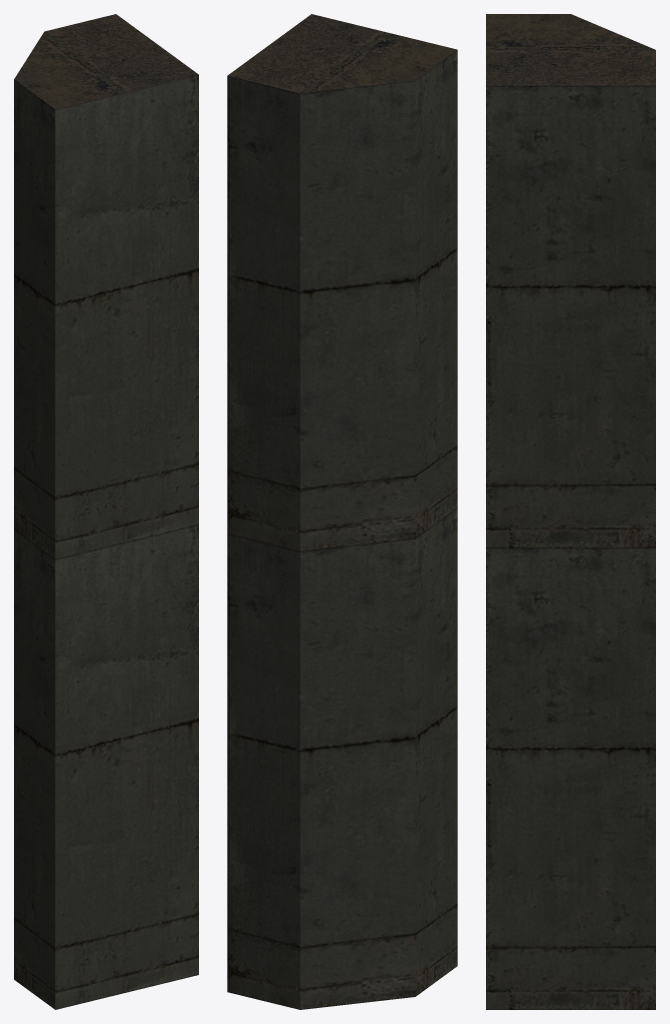
Rendered from pillar_rg_6.dae.
3 views of the same model, side by side, from view 1: azimuth 30°, elevation 25°; view 2: azimuth 150°, elevation 25°; view 3: azimuth 270°, elevation 25° (orthographic). The views are drawn at different scales.
Visible parts, largest first — view 1: pillar_rg_6; view 2: pillar_rg_6; view 3: pillar_rg_6.
Boxes of the visible parts, x1,y1,x2,y2 form: pillar_rg_6: (14,14,198,1009); pillar_rg_6: (227,14,457,1009); pillar_rg_6: (486,14,655,1009).
Size of the model in its own units: 1 by 1 by 6.
2 materials, 2 textured.
